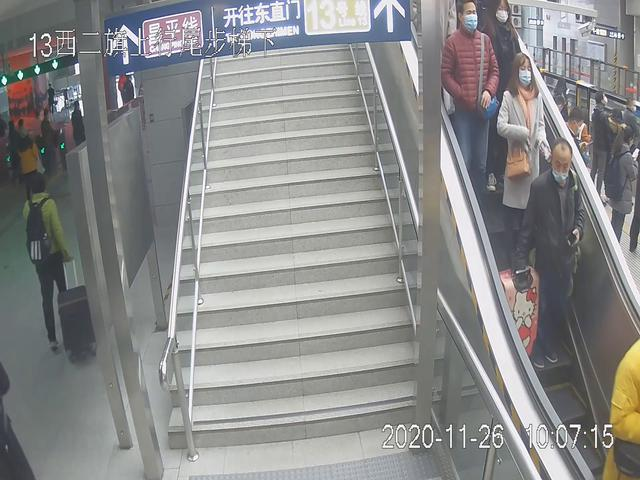person: (513, 137, 587, 370), (15, 167, 97, 372), (494, 52, 553, 271), (441, 1, 501, 209)
